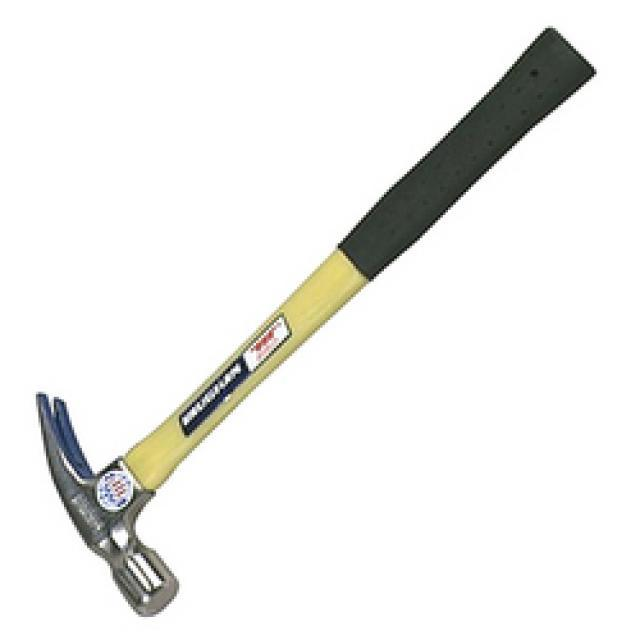hammer: (25, 20, 608, 622)
